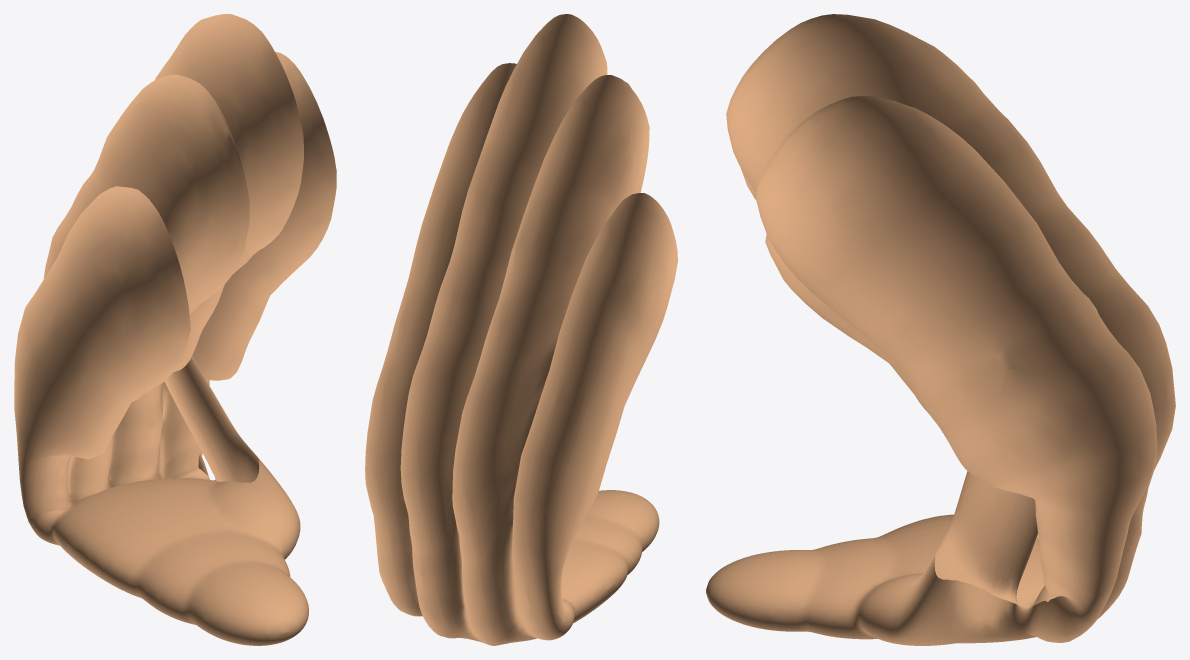
File: mansaf-player-hand.glb
The picture shows the model from 3 angles, left to right: view 1: azimuth 30°, elevation 25°; view 2: azimuth 150°, elevation 25°; view 3: azimuth 270°, elevation 25°; orthographic projection. The views are drawn at different scales.
Parts seen in each view (by area): view 1: Mansaf_Right_Hand; view 2: Mansaf_Right_Hand; view 3: Mansaf_Right_Hand.
Boxes of the visible parts, <box> form: Mansaf_Right_Hand: <box>14,14,336,645</box>; Mansaf_Right_Hand: <box>365,14,677,645</box>; Mansaf_Right_Hand: <box>706,14,1175,645</box>.
Size of the model in its own units: 0.3819 by 1.1 by 0.7473.
